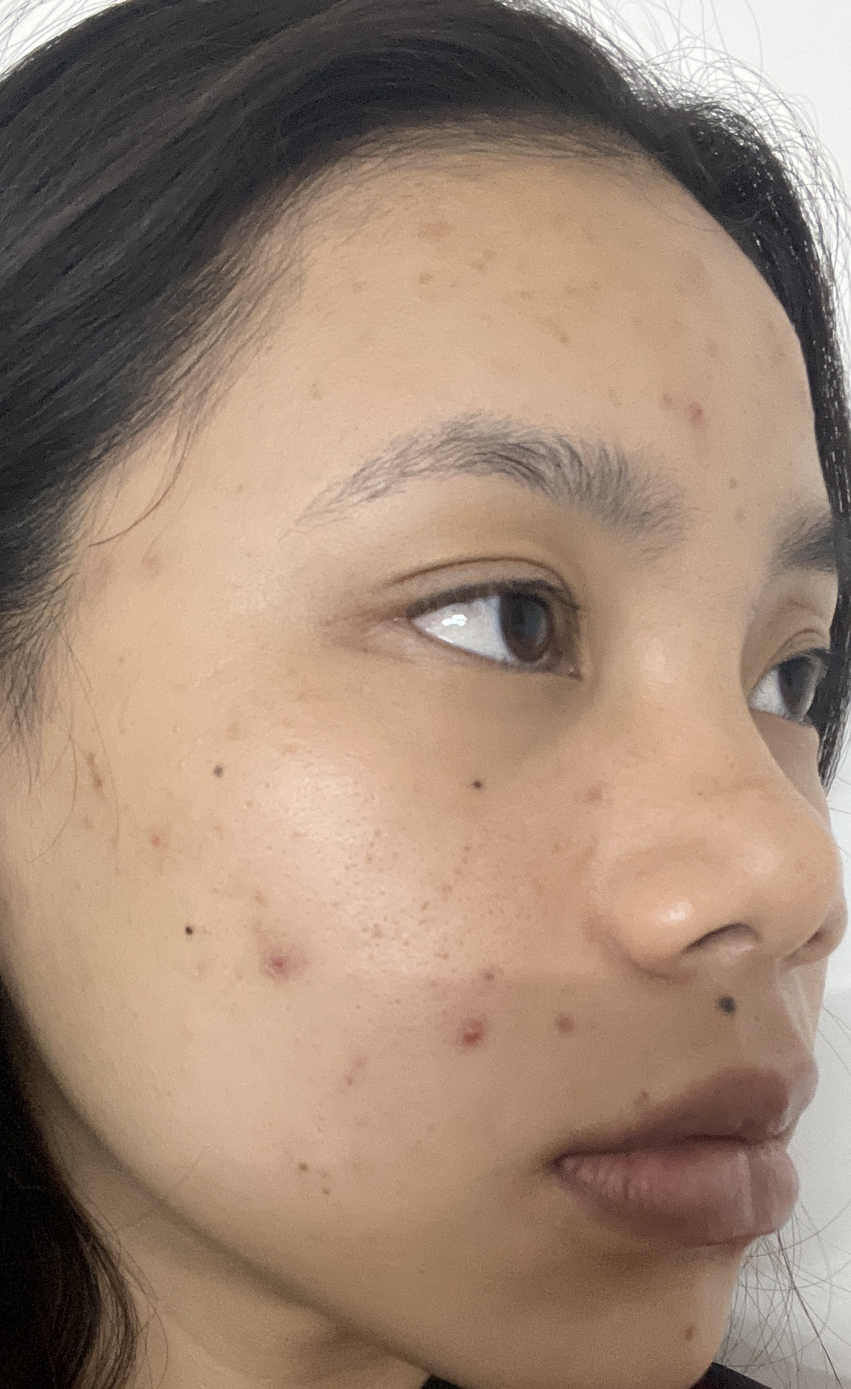papule: (648, 371, 753, 454), (70, 750, 162, 814), (444, 1006, 519, 1066), (256, 931, 306, 1002)
